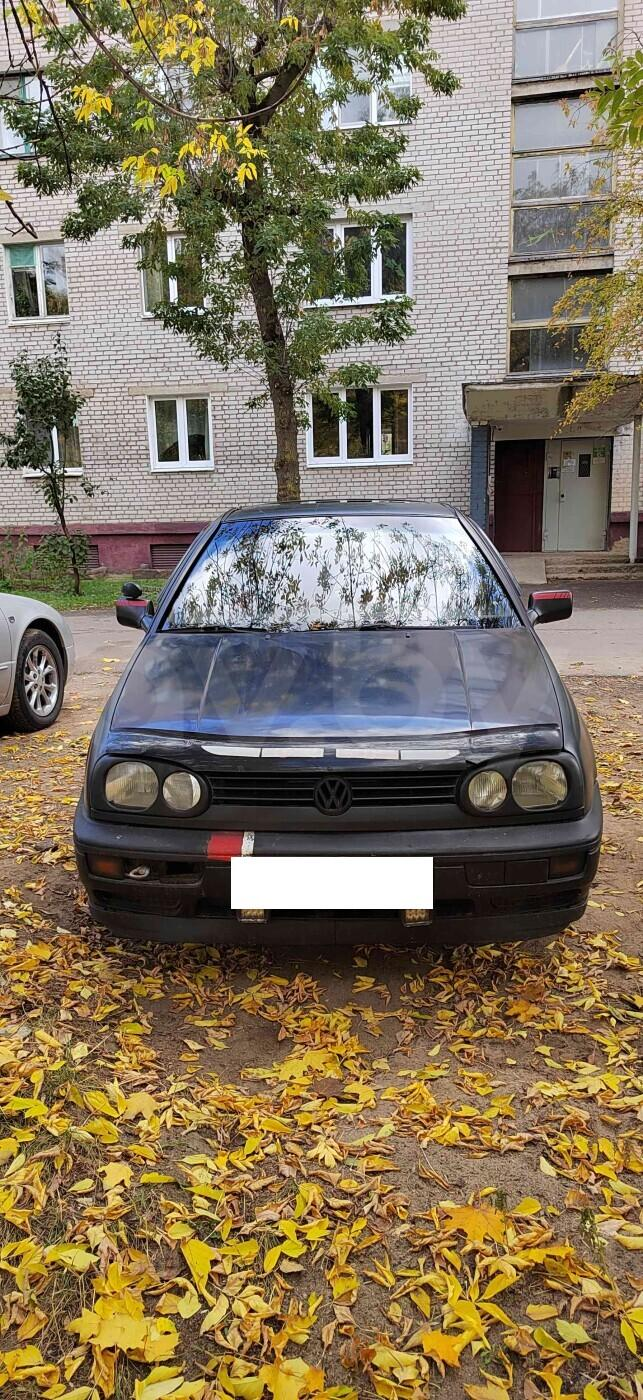Golf_1991-2000: (72, 478, 606, 948)
